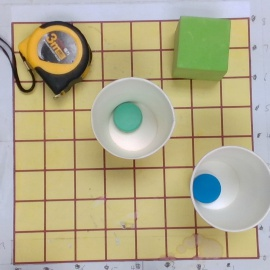cup_blue: (176, 141, 269, 231)
cup_green: (89, 77, 176, 161)
